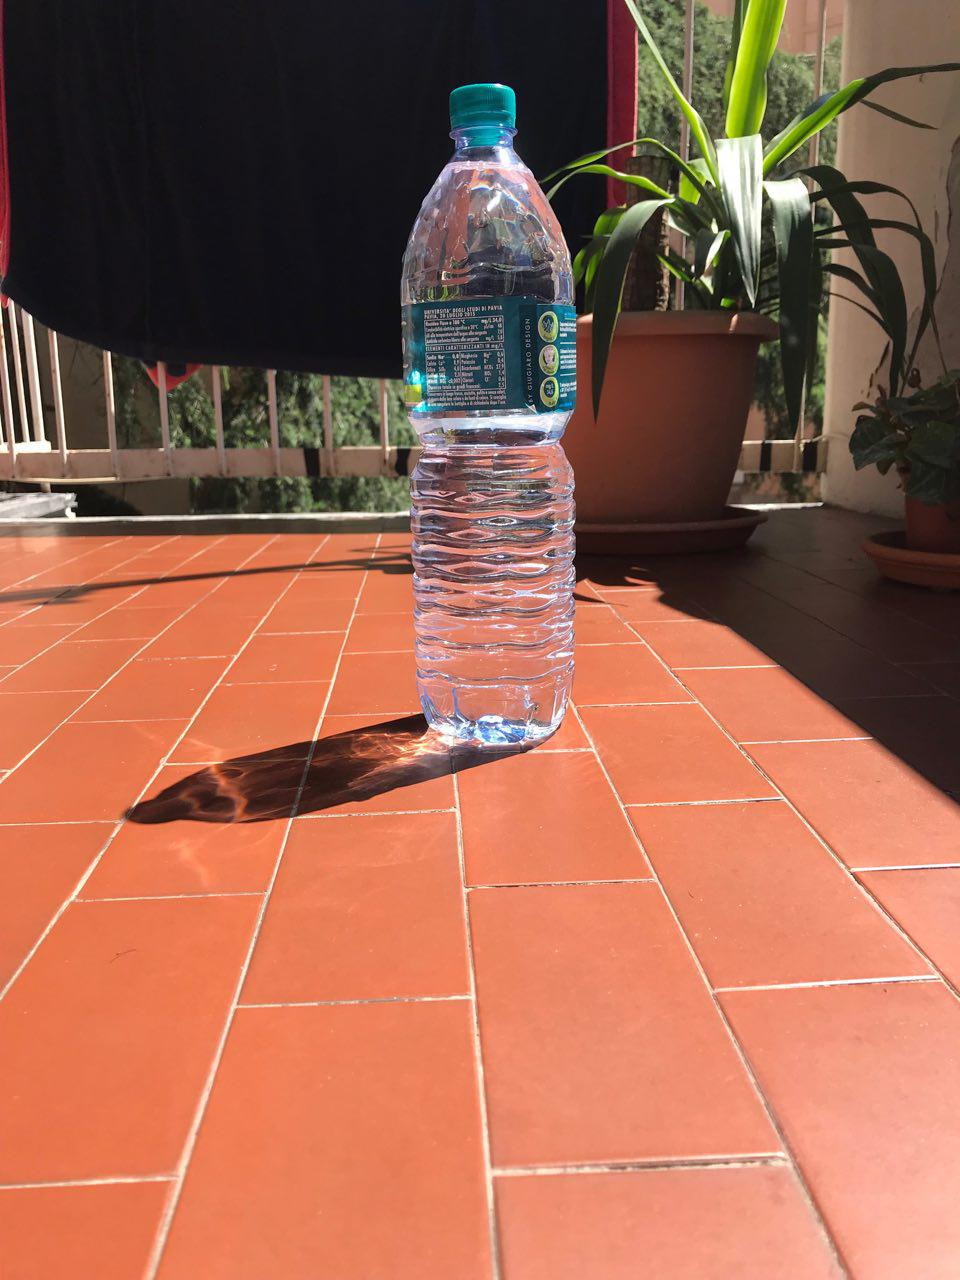san_bernardo: (398, 82, 578, 746)
